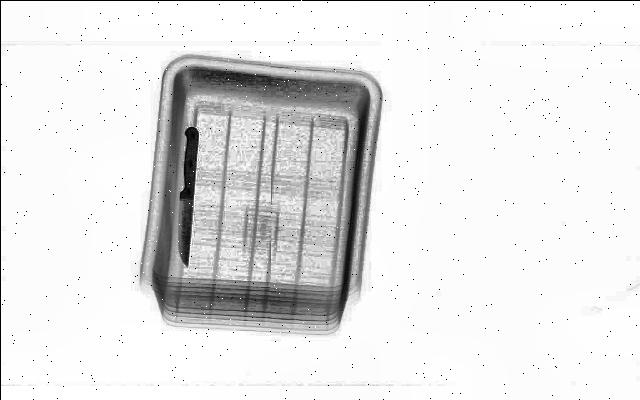Knife: (178, 127, 198, 266)
